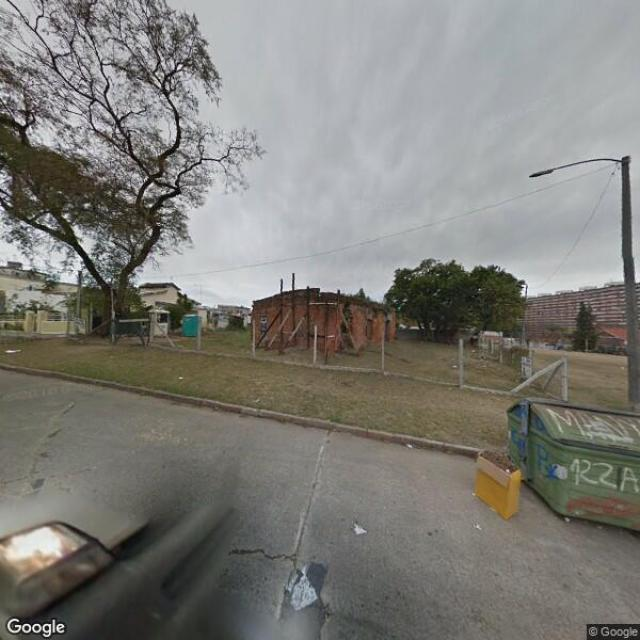garbage container: (495, 378, 640, 554)
